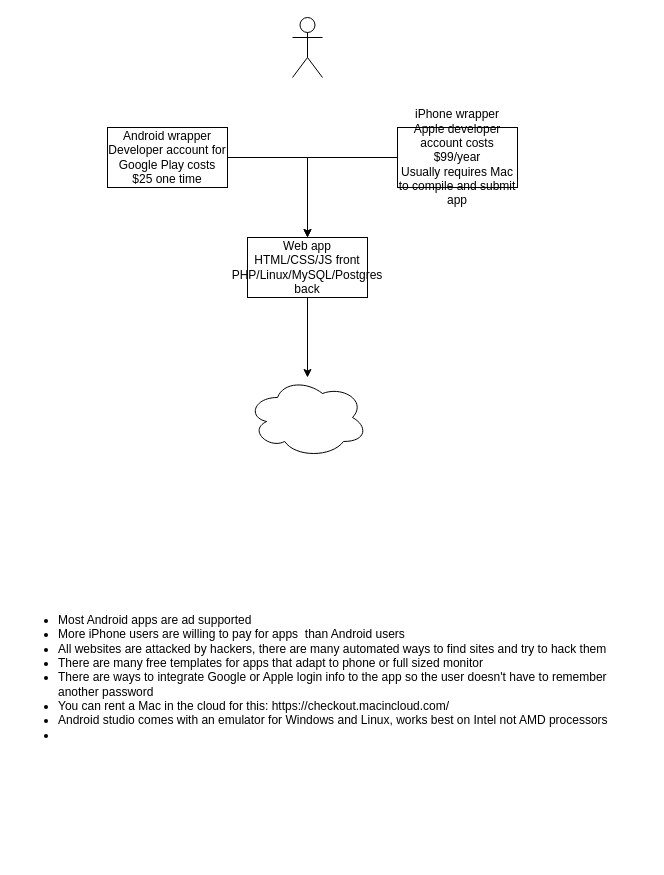
Some shapes in this 664 by 875 pixel diagram are drawn without their labels. The centre of each missing label's shape, as x and y in pixels:
"User" belongs at [307,47].
"web host $2 to $10 per month domain $10+ per year" belongs at [307,417].
